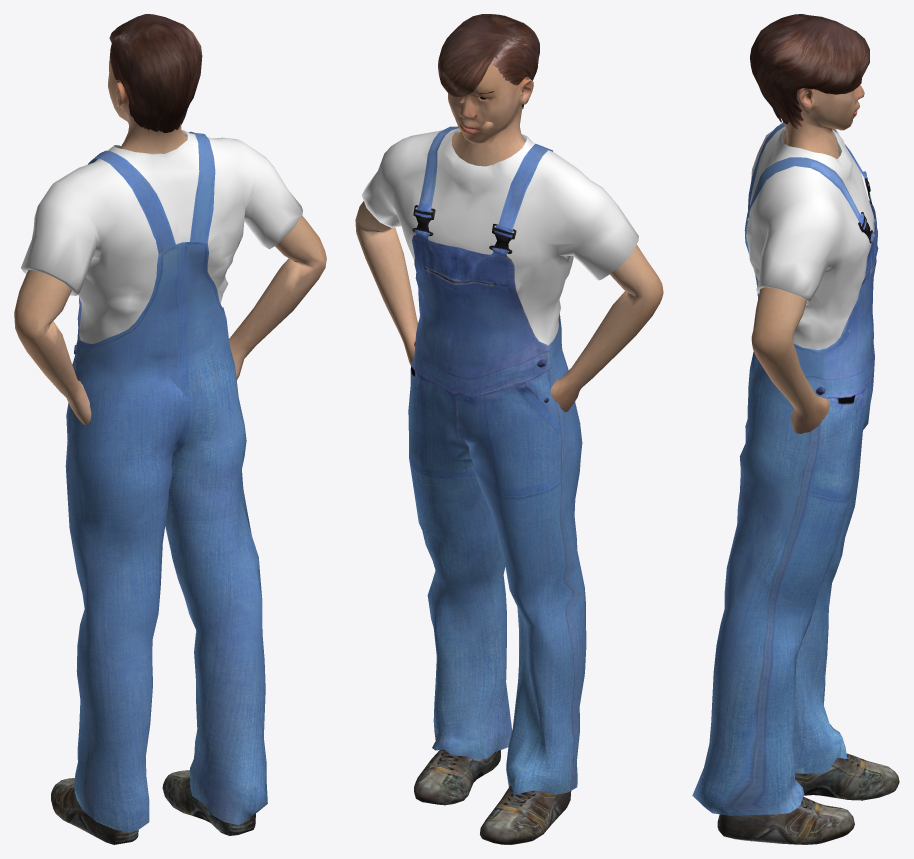
The model's file is hands_on_hips_3.gltf.
3 renders of one model, left to right at view 1: azimuth 30°, elevation 25°; view 2: azimuth 150°, elevation 25°; view 3: azimuth 270°, elevation 25°, orthographic.
Parts seen in each view (by area): view 1: hands_on_hips; view 2: hands_on_hips; view 3: hands_on_hips.
Part boxes in pixels (left/top/right/bottom): hands_on_hips: left=14, top=14, right=326, bottom=844; hands_on_hips: left=355, top=14, right=663, bottom=844; hands_on_hips: left=692, top=14, right=899, bottom=844.
Size of the model in its own units: 0.7073 by 1.76 by 0.4157.
6 materials, 6 textured.
